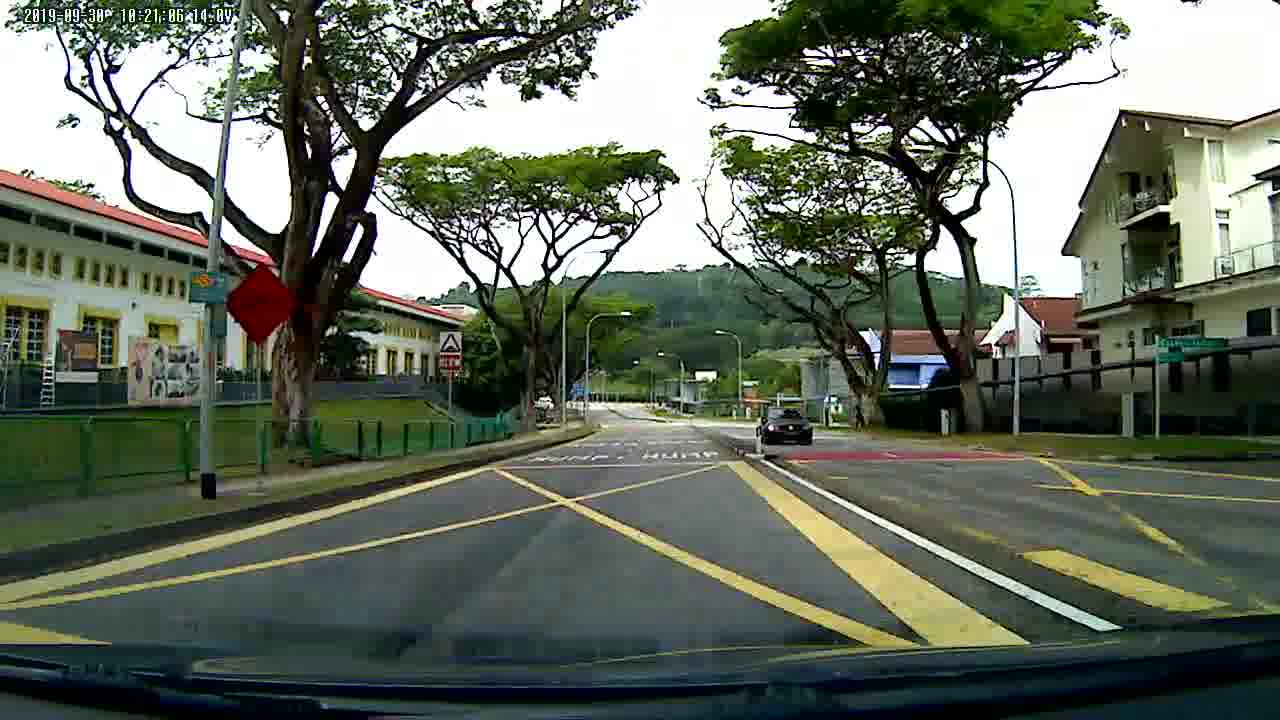car: (752, 404, 817, 447)
